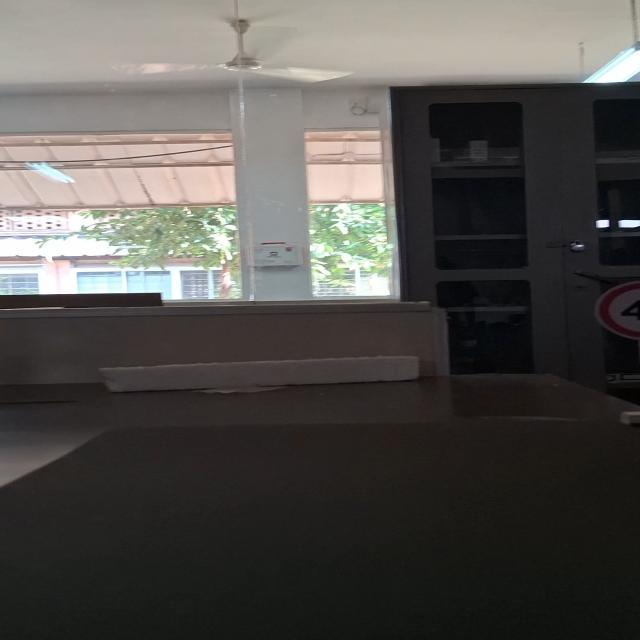Speed40: (587, 270, 640, 346)
